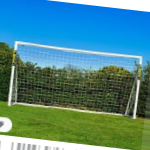goals: (6, 38, 144, 121)
